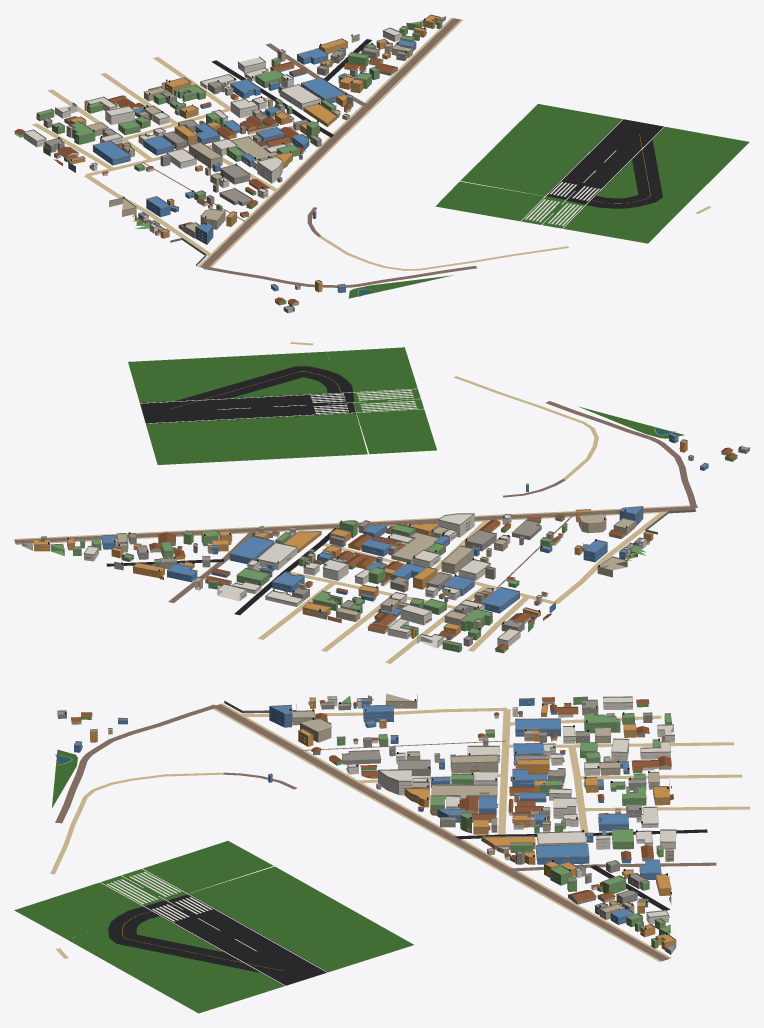
Rendered from zone_t-2_0.glb.
The picture shows the model from 3 angles, top to bottom: view 1: azimuth 30°, elevation 25°; view 2: azimuth 150°, elevation 25°; view 3: azimuth 270°, elevation 25°; orthographic projection. The views are drawn at different scales.
Parts seen in each view (by area): view 1: zone_herbe_aerodrome_t-2_0, parapet_t-2_0, bld_peinture_blanc_t-2_0-col, bld_peinture_bleu_t-2_0-col, bld_peinture_vert_t-2_0-col, aeroport_runway_t-2_0, bld_peinture_ocre_t-2_0-col, bld_peinture_ecaillee_t-2_0-col, bld_beton_t-2_0-col, route_residential_terre_t-2_0, toit_tole_t-2_0, route_tertiary_paves_t-2_0 (+8 smaller); view 2: zone_herbe_aerodrome_t-2_0, parapet_t-2_0, bld_peinture_blanc_t-2_0-col, bld_peinture_bleu_t-2_0-col, aeroport_runway_t-2_0, bld_peinture_vert_t-2_0-col, bld_peinture_ecaillee_t-2_0-col, bld_peinture_ocre_t-2_0-col, bld_beton_t-2_0-col, route_residential_terre_t-2_0, toit_tole_t-2_0, aeroport_taxiway_t-2_0 (+8 smaller); view 3: zone_herbe_aerodrome_t-2_0, parapet_t-2_0, bld_peinture_blanc_t-2_0-col, bld_peinture_bleu_t-2_0-col, aeroport_runway_t-2_0, bld_peinture_vert_t-2_0-col, bld_peinture_ecaillee_t-2_0-col, bld_peinture_ocre_t-2_0-col, route_residential_terre_t-2_0, bld_beton_t-2_0-col, route_tertiary_paves_t-2_0, toit_tole_t-2_0 (+8 smaller).
Part boxes in pixels (x1=…): zone_herbe_aerodrome_t-2_0: x1=435, y1=104, x2=749, y2=243; parapet_t-2_0: x1=23, y1=14, x2=446, y2=310; bld_peinture_blanc_t-2_0-col: x1=23, y1=28, x2=401, y2=235; bld_peinture_bleu_t-2_0-col: x1=64, y1=40, x2=416, y2=292; bld_peinture_vert_t-2_0-col: x1=14, y1=21, x2=442, y2=305; aeroport_runway_t-2_0: x1=545, y1=119, x2=665, y2=203; bld_peinture_ocre_t-2_0-col: x1=68, y1=15, x2=440, y2=292; bld_peinture_ecaillee_t-2_0-col: x1=54, y1=35, x2=412, y2=306; bld_beton_t-2_0-col: x1=43, y1=16, x2=445, y2=313; route_residential_terre_t-2_0: x1=32, y1=57, x2=293, y2=257; toit_tole_t-2_0: x1=14, y1=57, x2=397, y2=303; route_tertiary_paves_t-2_0: x1=200, y1=18, x2=460, y2=268; zone_herbe_aerodrome_t-2_0: x1=128, y1=347, x2=436, y2=464; parapet_t-2_0: x1=22, y1=432, x2=749, y2=646; bld_peinture_blanc_t-2_0-col: x1=84, y1=514, x2=649, y2=648; bld_peinture_bleu_t-2_0-col: x1=102, y1=433, x2=708, y2=619; aeroport_runway_t-2_0: x1=140, y1=392, x2=355, y2=423; bld_peinture_vert_t-2_0-col: x1=41, y1=456, x2=737, y2=653; bld_peinture_ecaillee_t-2_0-col: x1=114, y1=451, x2=732, y2=633; bld_peinture_ocre_t-2_0-col: x1=33, y1=440, x2=687, y2=638; bld_beton_t-2_0-col: x1=22, y1=446, x2=749, y2=646; route_residential_terre_t-2_0: x1=258, y1=511, x2=667, y2=663; toit_tole_t-2_0: x1=149, y1=447, x2=737, y2=650; aeroport_taxiway_t-2_0: x1=176, y1=366, x2=354, y2=402; zone_herbe_aerodrome_t-2_0: x1=14, y1=841, x2=413, y2=1013; parapet_t-2_0: x1=57, y1=695, x2=676, y2=951; bld_peinture_blanc_t-2_0-col: x1=320, y1=697, x2=676, y2=924; bld_peinture_bleu_t-2_0-col: x1=74, y1=699, x2=661, y2=924; aeroport_runway_t-2_0: x1=145, y1=893, x2=328, y2=986; bld_peinture_vert_t-2_0-col: x1=81, y1=695, x2=671, y2=948; bld_peinture_ecaillee_t-2_0-col: x1=71, y1=693, x2=673, y2=919; bld_peinture_ocre_t-2_0-col: x1=90, y1=695, x2=676, y2=950; route_residential_terre_t-2_0: x1=238, y1=707, x2=749, y2=834; bld_beton_t-2_0-col: x1=57, y1=700, x2=675, y2=954; route_tertiary_paves_t-2_0: x1=212, y1=704, x2=669, y2=961; toit_tole_t-2_0: x1=71, y1=697, x2=673, y2=901.
Bounding box in the file's own units: 607 × 14 × 599.
